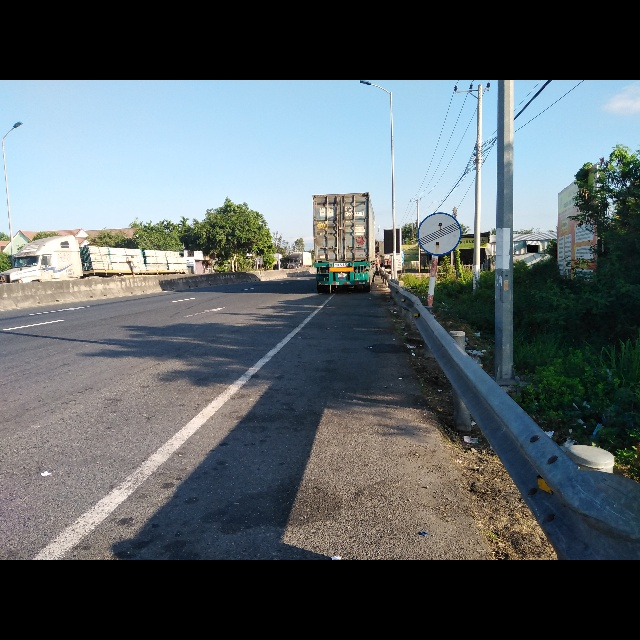Hết tất cả các lệnh cấm: (416, 211, 462, 257)
